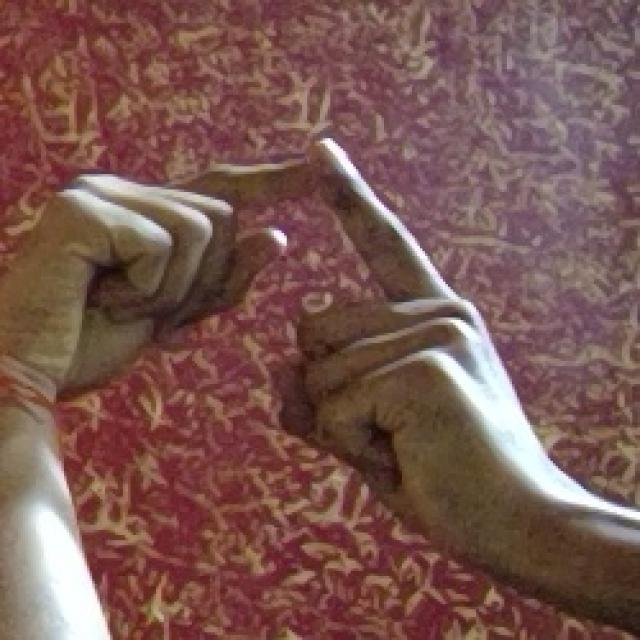Alphabet-E: (1, 138, 640, 640), (0, 174, 236, 640)
